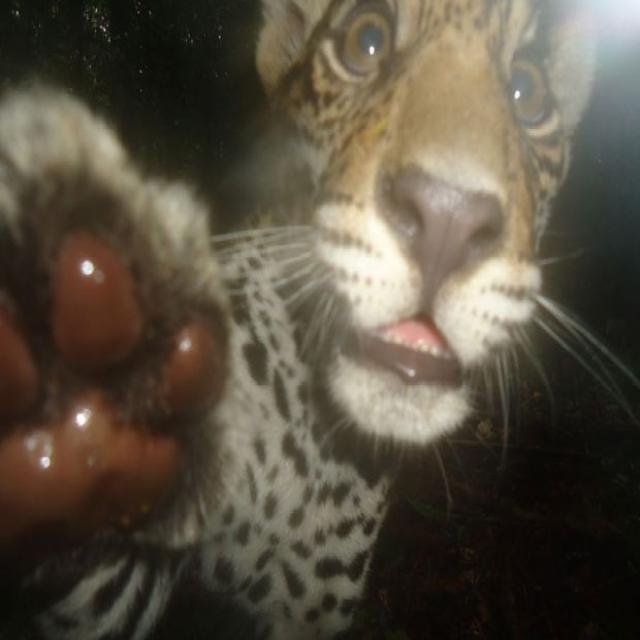Jaguar: (223, 0, 571, 619)
